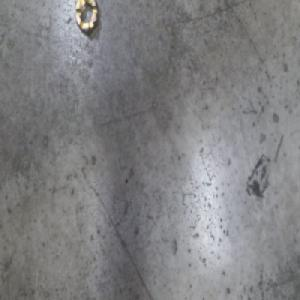Nut: (73, 0, 100, 40)
